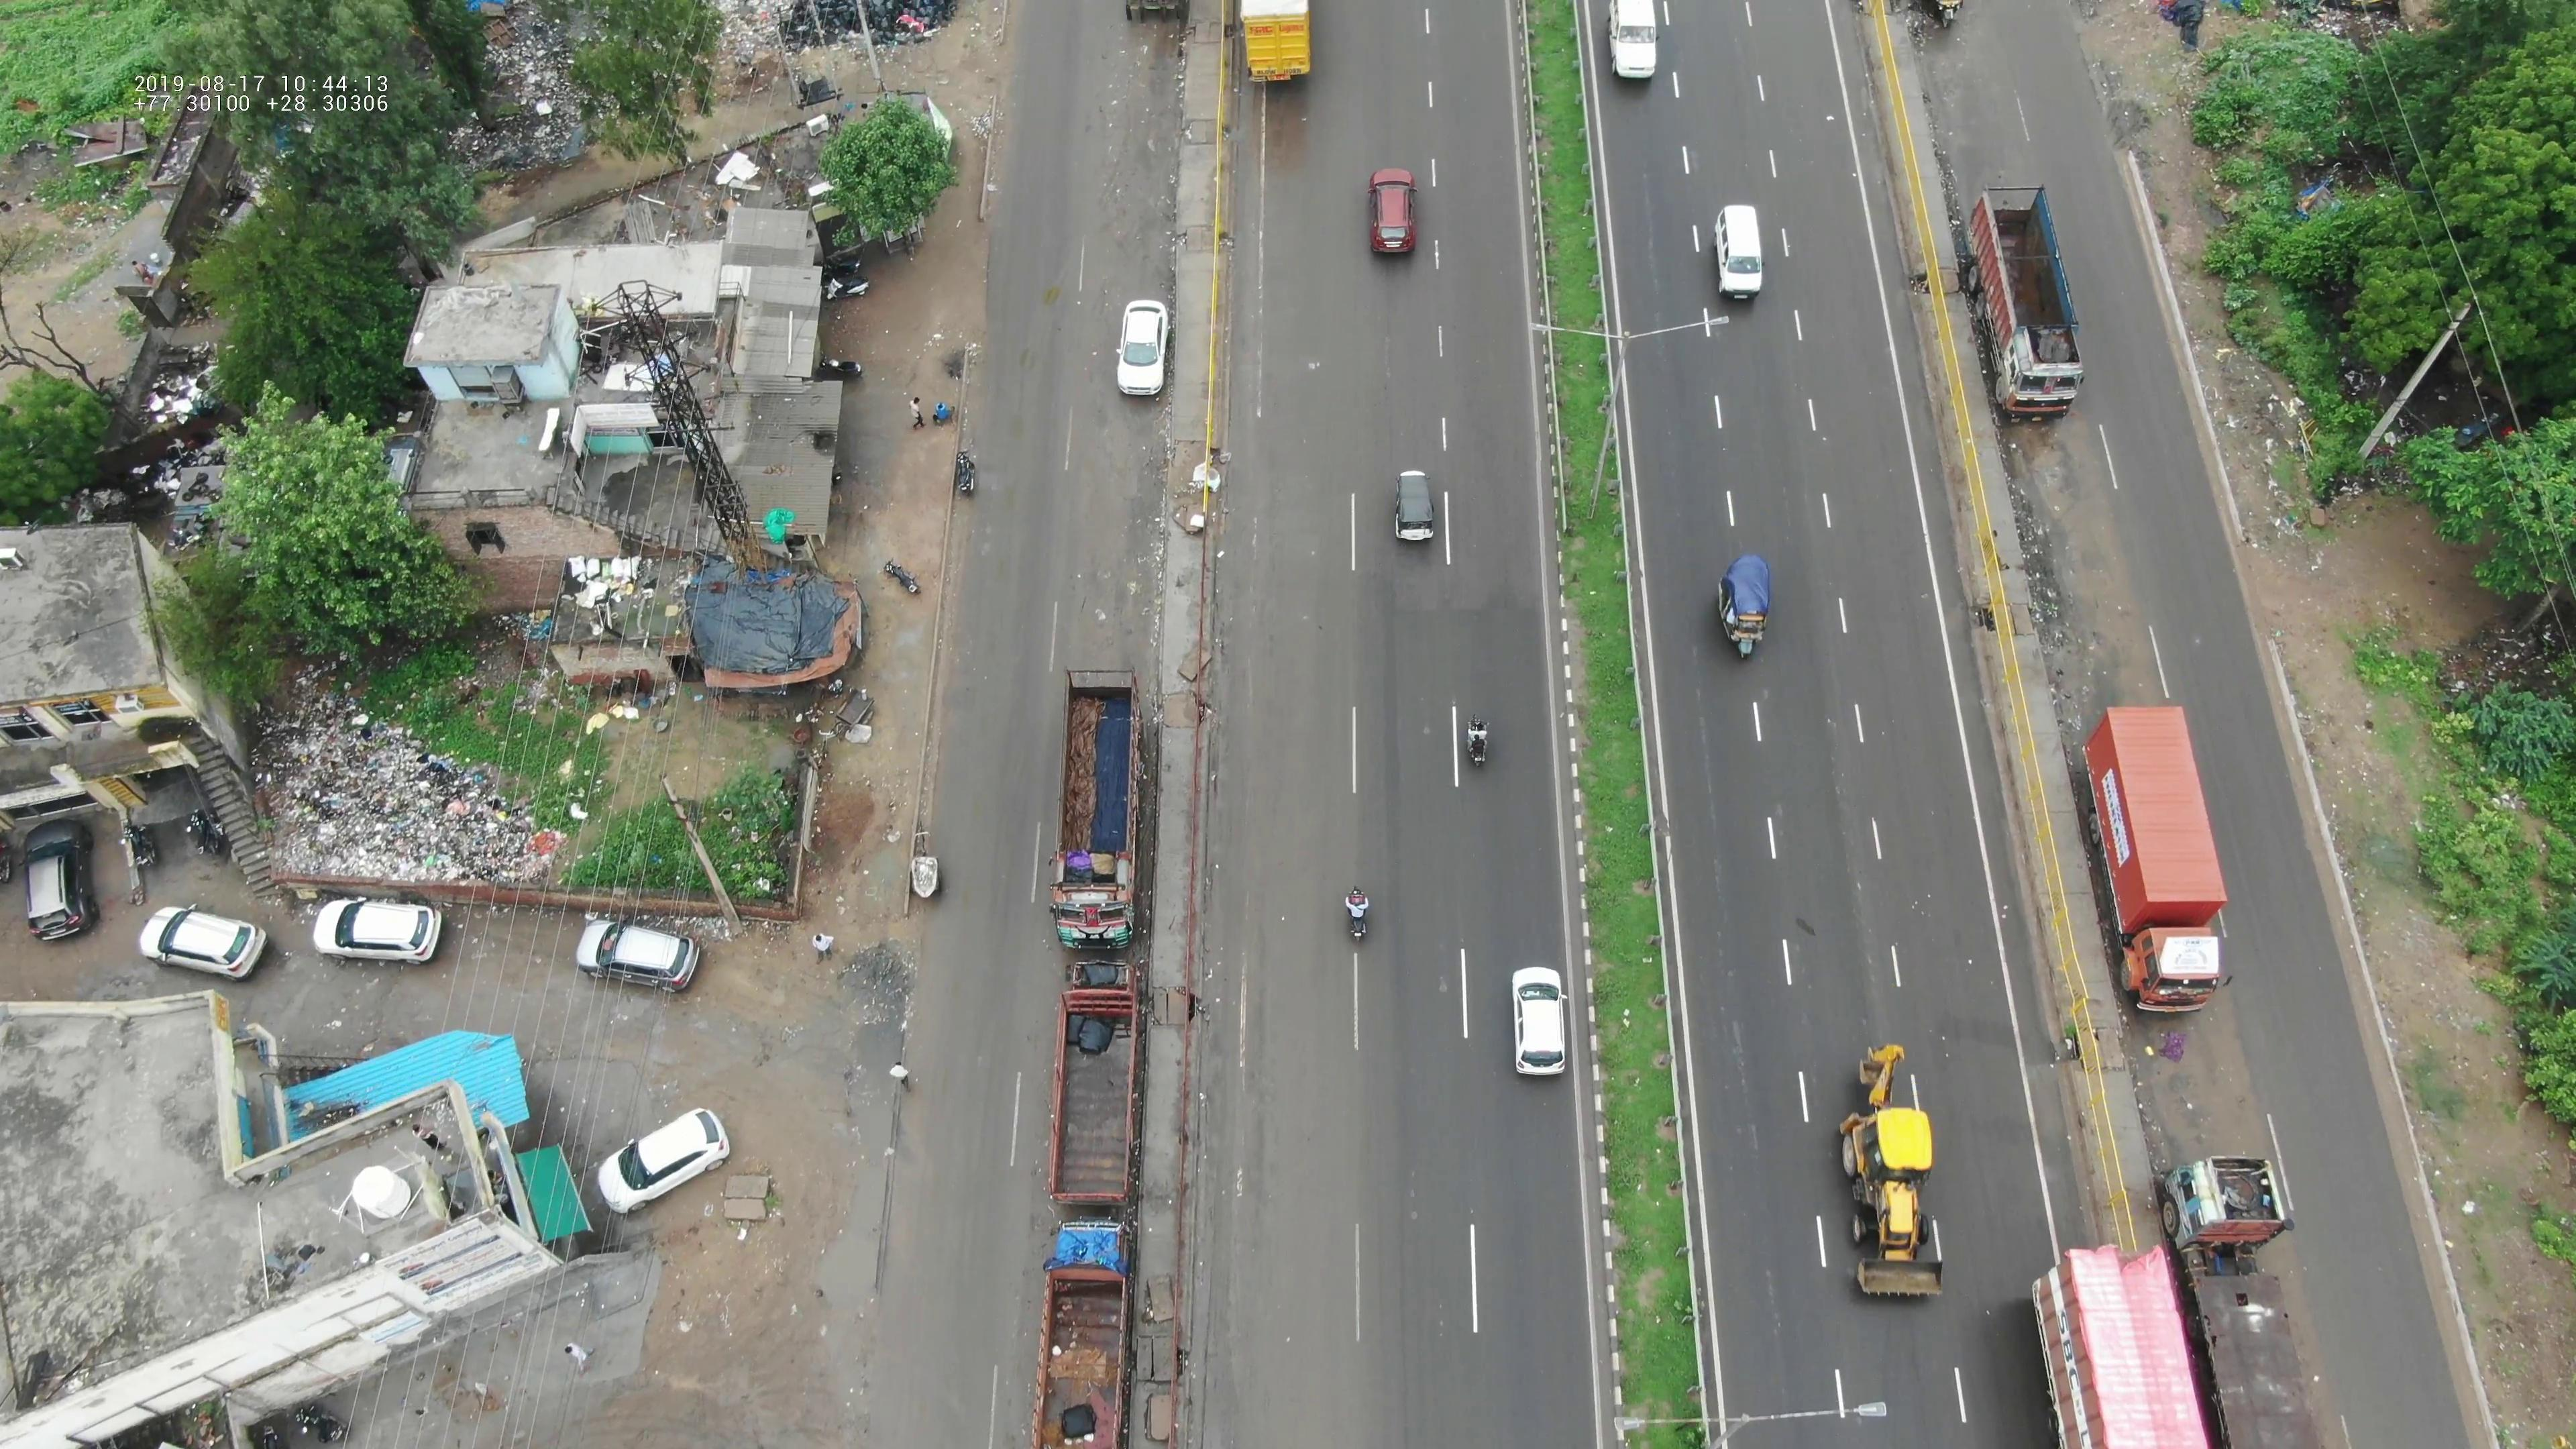Muddy_road: (2005, 449, 2169, 683), (1097, 11, 1162, 274), (1081, 407, 1141, 649), (2135, 1026, 2266, 1127)
